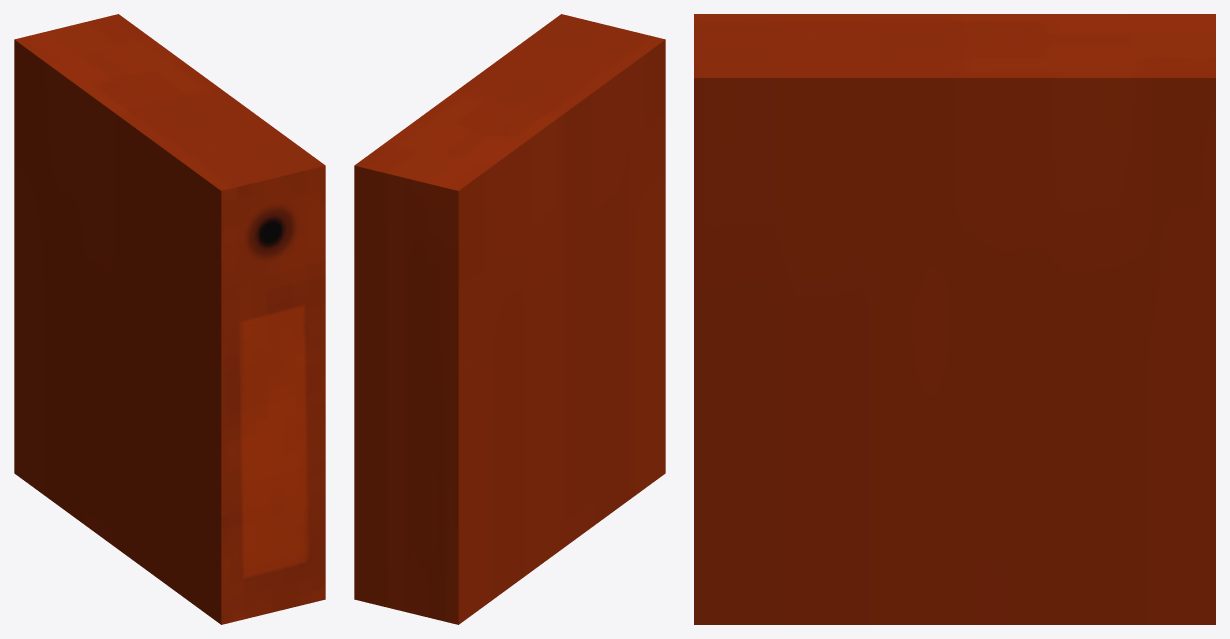
File: SM_Folder.glb
3 renders of one model, left to right at view 1: azimuth 30°, elevation 25°; view 2: azimuth 150°, elevation 25°; view 3: azimuth 270°, elevation 25°, orthographic. The views are drawn at different scales.
Parts seen in each view (by area): view 1: SM_Folder; view 2: SM_Folder; view 3: SM_Folder.
Boxes of the visible parts, left/top/right/bottom form: SM_Folder: left=14, top=14, right=325, bottom=624; SM_Folder: left=354, top=14, right=665, bottom=624; SM_Folder: left=694, top=14, right=1215, bottom=624.
Bounding box in the file's own units: 0.0732 × 0.2909 × 0.2516.
Materials: 1 (1 with a texture image).
